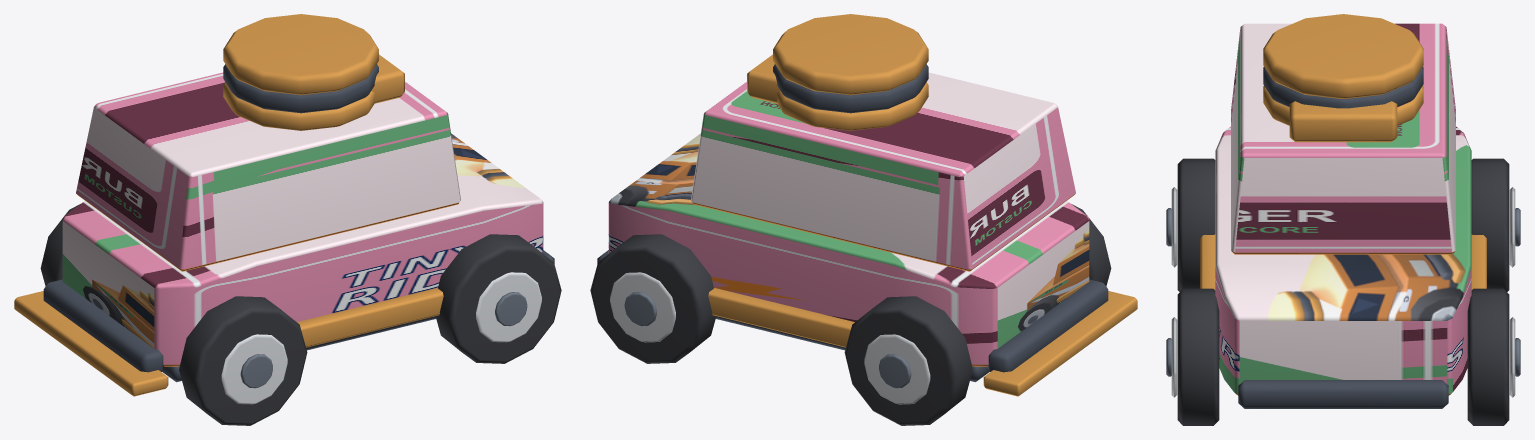
The picture shows the model from 3 angles, left to right: view 1: azimuth 30°, elevation 25°; view 2: azimuth 150°, elevation 25°; view 3: azimuth 270°, elevation 25°; orthographic projection. The views are drawn at different scales.
Visible parts, largest first — view 1: SS-03_cabin, SS-03_connected_shell, burger layer.002, Tire, Tire.002, custom chin, custom side guard, front bumper, burger layer.001, Rim, Rim.002, burger layer (+5 smaller); view 2: SS-03_cabin, SS-03_connected_shell, burger layer.002, Tire.001, Tire.003, custom chin, custom side guard.001, front bumper, burger layer.001, Rim.001, Rim.003, burger layer (+5 smaller); view 3: SS-03_connected_shell, SS-03_cabin, burger layer.002, rear bumper, Tire.002, Tire.003, Tire, Tire.001, custom equipment, burger layer.001, burger layer, custom side guard (+5 smaller).
Boxes of the visible parts, bbox=[...] form: SS-03_cabin: bbox=[76, 72, 460, 271]; SS-03_connected_shell: bbox=[62, 133, 543, 366]; burger layer.002: bbox=[223, 14, 378, 95]; Tire: bbox=[179, 296, 307, 425]; Tire.002: bbox=[435, 234, 561, 363]; custom chin: bbox=[14, 291, 168, 396]; custom side guard: bbox=[297, 288, 443, 347]; front bumper: bbox=[43, 279, 163, 372]; burger layer.001: bbox=[223, 64, 378, 113]; Rim: bbox=[221, 334, 287, 404]; Rim.002: bbox=[476, 272, 541, 342]; burger layer: bbox=[223, 82, 374, 130]; SS-03_cabin: bbox=[691, 72, 1075, 271]; SS-03_connected_shell: bbox=[608, 133, 1089, 366]; burger layer.002: bbox=[773, 14, 928, 95]; Tire.001: bbox=[844, 296, 972, 425]; Tire.003: bbox=[590, 234, 716, 363]; custom chin: bbox=[983, 291, 1137, 396]; custom side guard.001: bbox=[708, 288, 854, 347]; front bumper: bbox=[988, 279, 1108, 372]; burger layer.001: bbox=[773, 64, 928, 113]; Rim.001: bbox=[864, 334, 930, 404]; Rim.003: bbox=[610, 272, 675, 342]; burger layer: bbox=[777, 82, 928, 130]; SS-03_connected_shell: bbox=[1215, 126, 1471, 395]; SS-03_cabin: bbox=[1231, 23, 1455, 254]; burger layer.002: bbox=[1263, 14, 1423, 98]; rear bumper: bbox=[1238, 380, 1448, 408]; Tire.002: bbox=[1177, 288, 1219, 425]; Tire.003: bbox=[1467, 288, 1509, 425]; Tire: bbox=[1177, 158, 1215, 291]; Tire.001: bbox=[1471, 158, 1509, 291]; custom equipment: bbox=[1289, 101, 1397, 142]; burger layer.001: bbox=[1263, 67, 1423, 108]; burger layer: bbox=[1263, 85, 1423, 125]; custom side guard: bbox=[1200, 234, 1215, 289].
Size of the model in its own units: 328 by 213 by 221.
